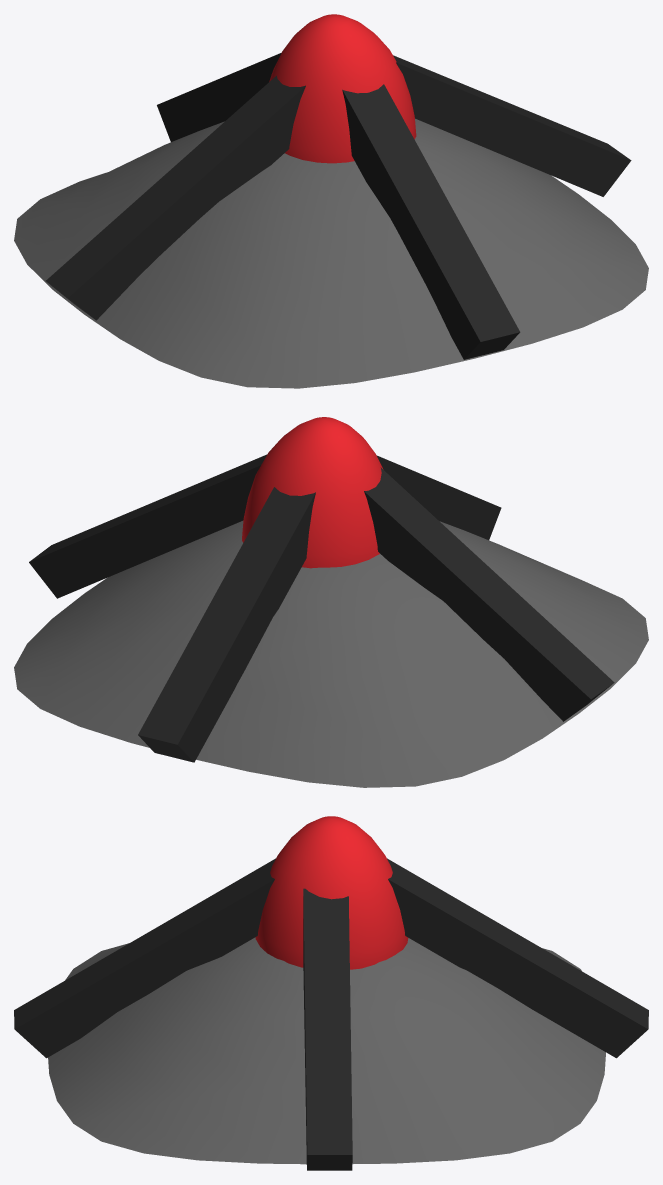
The model's file is Mina_Terrestre.fbx.
The picture shows the model from 3 angles, top to bottom: view 1: azimuth 30°, elevation 25°; view 2: azimuth 150°, elevation 25°; view 3: azimuth 270°, elevation 25°; orthographic projection. The views are drawn at different scales.
Parts seen in each view (by area): view 1: Plane; view 2: Plane; view 3: Plane.
Boxes of the visible parts, left/top/right/bottom form: Plane: left=14, top=14, right=648, bottom=388; Plane: left=14, top=417, right=648, bottom=787; Plane: left=14, top=816, right=648, bottom=1170.
Size of the model in its own units: 110 by 43.78 by 110.
